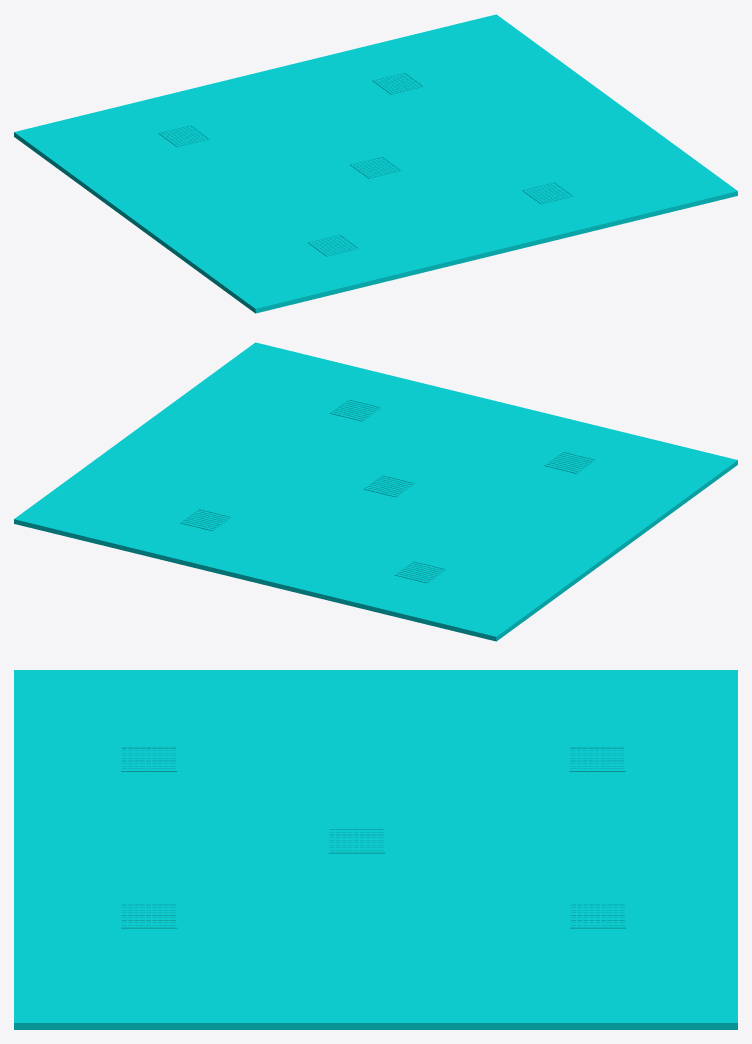
Rendered from LabCeilingV02.fbx.
3 views of the same model, one above another, from view 1: azimuth 30°, elevation 25°; view 2: azimuth 150°, elevation 25°; view 3: azimuth 270°, elevation 25° (orthographic). The views are drawn at different scales.
Visible parts, largest first — view 1: Labceilingpattern, LabLight_01, LabLight_02, LabLight_03, LabLight_04, LabLight_05; view 2: Labceilingpattern, LabLight_02, LabLight_03, LabLight_05, LabLight_01, LabLight_04; view 3: Labceilingpattern, LabLight_05, LabLight_01, LabLight_02, LabLight_03, LabLight_04.
Part boxes in pixels (left/top/right/bottom): Labceilingpattern: left=14, top=14, right=737, bottom=313; LabLight_01: left=158, top=125, right=209, bottom=147; LabLight_02: left=308, top=234, right=359, bottom=256; LabLight_03: left=522, top=182, right=573, bottom=204; LabLight_04: left=372, top=72, right=423, bottom=94; LabLight_05: left=350, top=156, right=401, bottom=178; Labceilingpattern: left=14, top=342, right=737, bottom=641; LabLight_02: left=544, top=451, right=595, bottom=473; LabLight_03: left=329, top=399, right=380, bottom=421; LabLight_05: left=363, top=475, right=414, bottom=497; LabLight_01: left=395, top=561, right=445, bottom=583; LabLight_04: left=180, top=509, right=231, bottom=530; Labceilingpattern: left=14, top=670, right=737, bottom=1029; LabLight_05: left=328, top=828, right=384, bottom=853; LabLight_01: left=569, top=747, right=625, bottom=771; LabLight_02: left=121, top=747, right=177, bottom=771; LabLight_03: left=121, top=904, right=177, bottom=928; LabLight_04: left=570, top=904, right=626, bottom=928.
Size of the model in its own units: 968 by 10.24 by 839.
